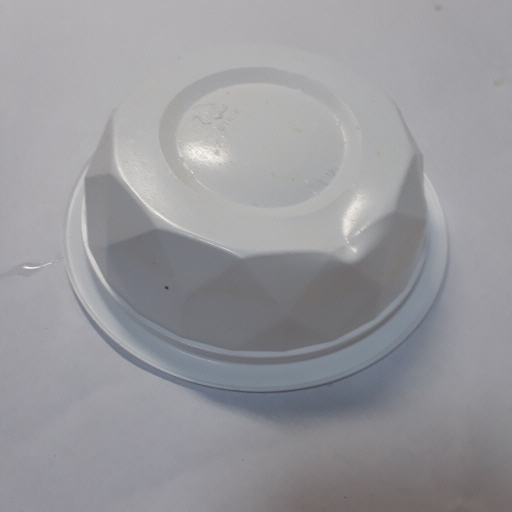Plastic_5: (67, 46, 450, 396)
